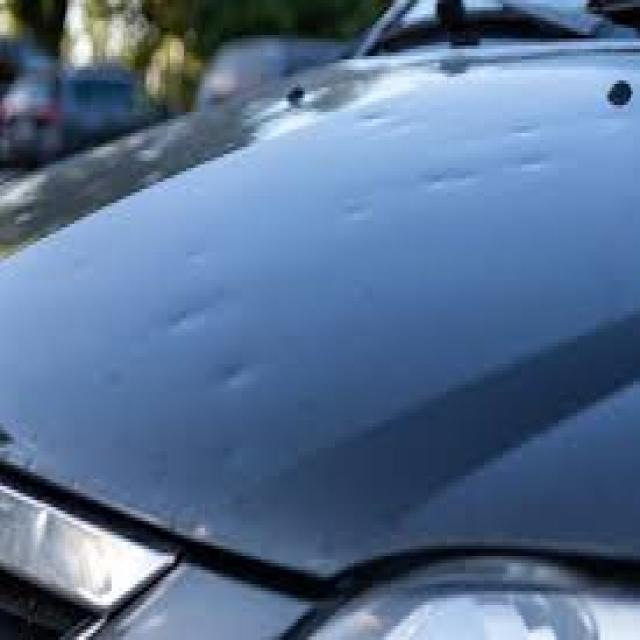minor: (192, 48, 540, 398)
